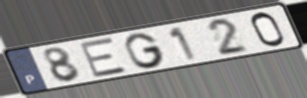0: (249, 11, 287, 48)
1: (166, 24, 199, 62)
2: (207, 17, 251, 58)
8: (43, 46, 84, 83)
E: (77, 36, 131, 79)
G: (123, 31, 168, 70)
